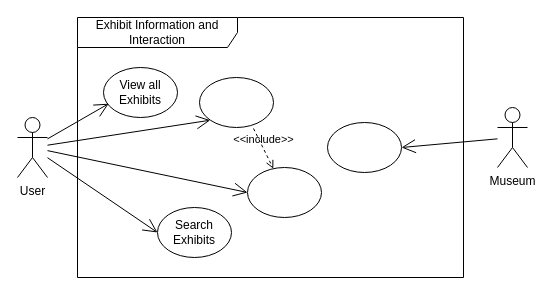
Image size: 553x295. Some labels were removed from this diagram. Each missing label, with the box of its shape:
Listen audio transcript: (246, 166, 322, 218)
Provide Exhibit Information: (326, 122, 402, 172)
View Exhibit Information: (198, 76, 274, 128)
